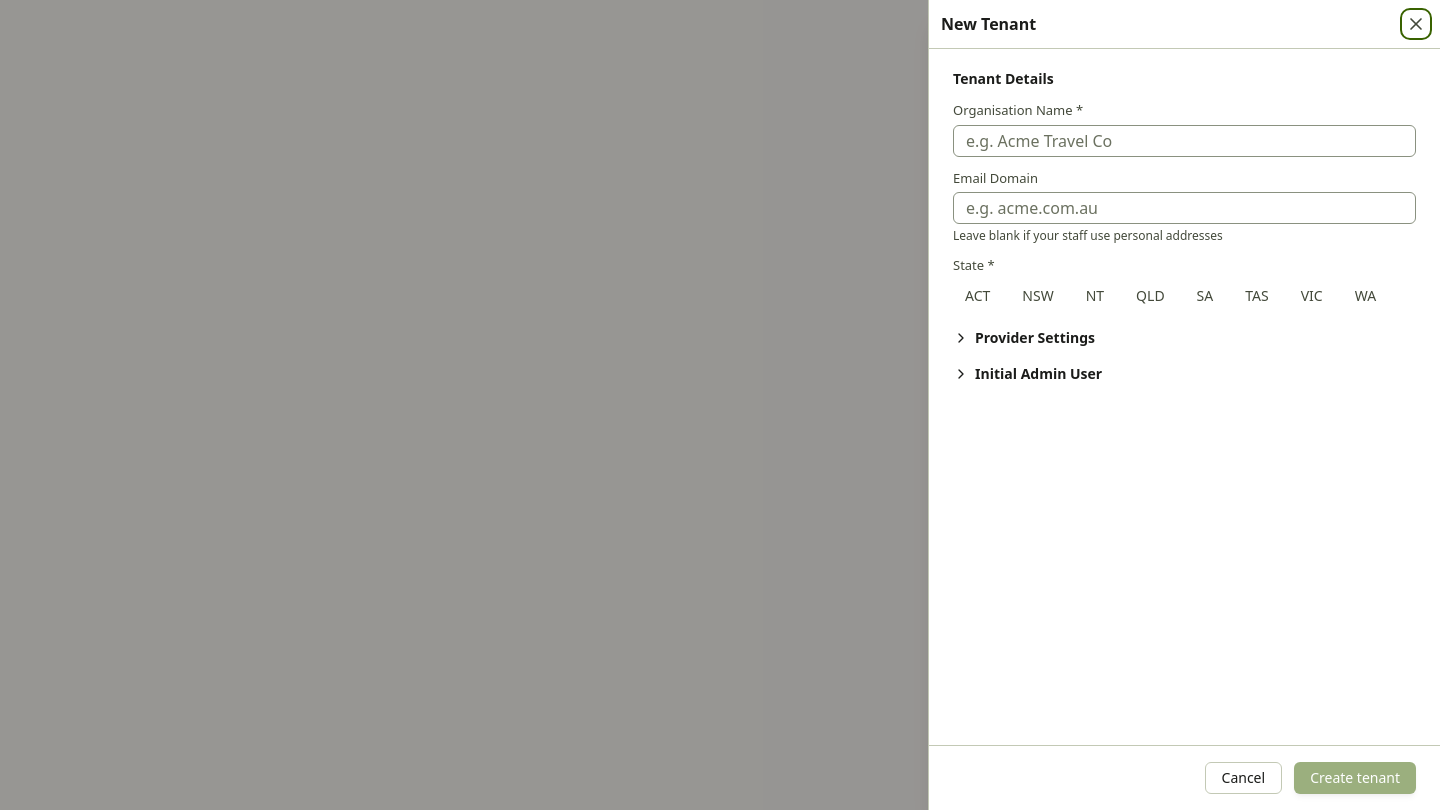
TenantFormPanel create: optional domain, required state › does not ask whether the tenant is a PACE provider
Click the button "Provider Settings".
click(1024, 338)  # box [953,328,1095,348]
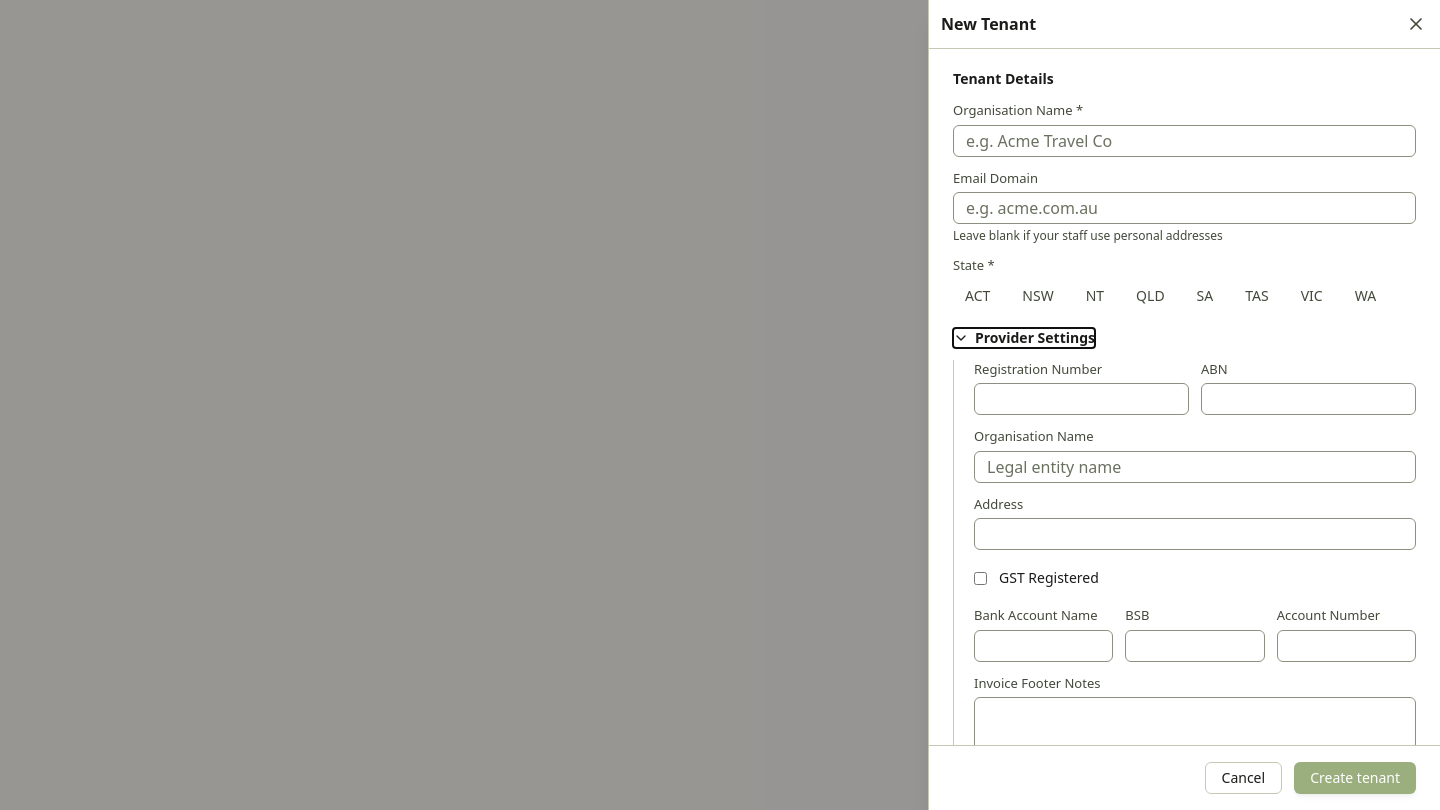
Expected: the checkbox labelled "GST Registered" is shown, [974,572,987,584]
